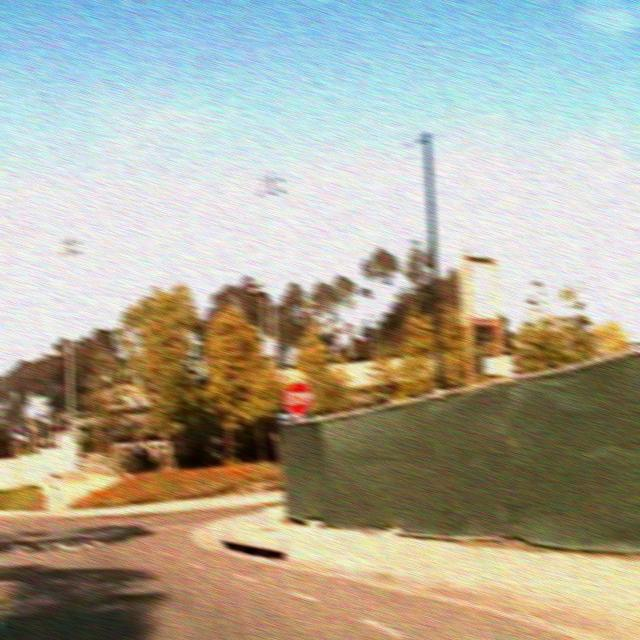stop: (283, 379, 313, 416)
